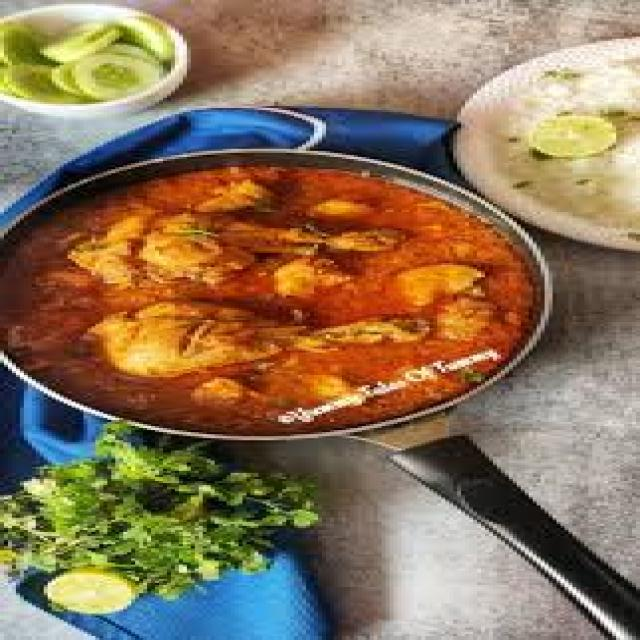Frango: (0, 165, 529, 434)
